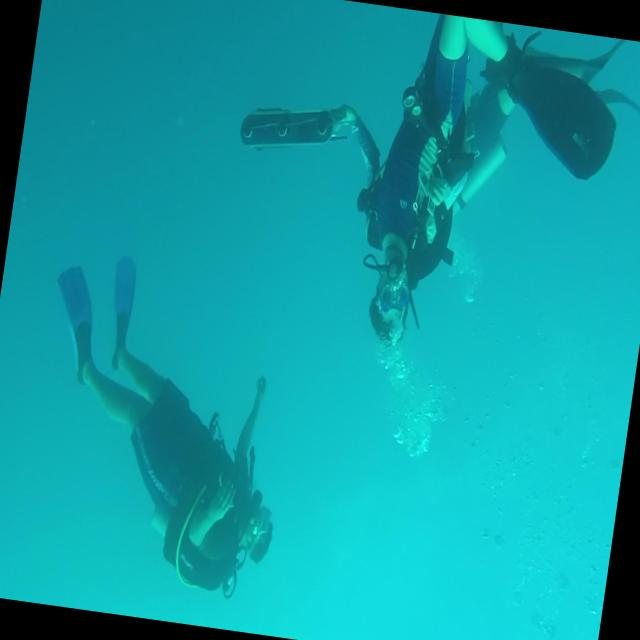human: (213, 0, 640, 379), (15, 248, 308, 606)
